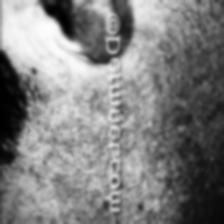Unclassified: (130, 36, 202, 224), (35, 68, 103, 224)
